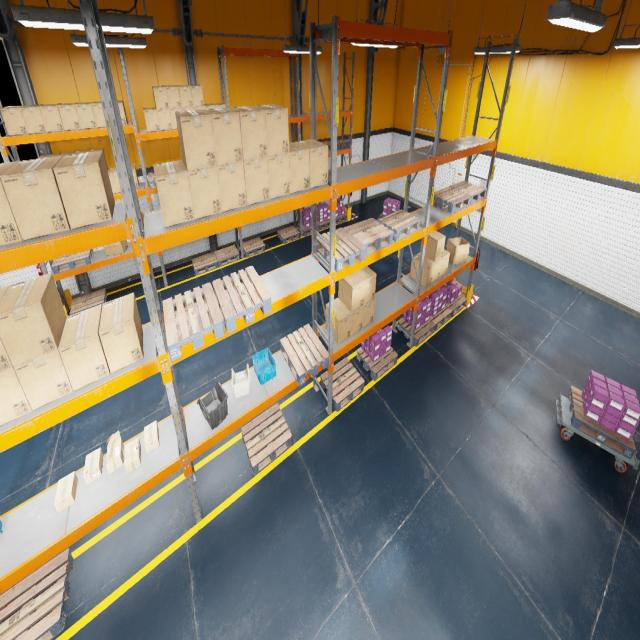box: (0, 273, 66, 366), (0, 156, 70, 240), (13, 321, 73, 410), (53, 150, 115, 230), (58, 304, 110, 391), (99, 293, 143, 373), (153, 160, 195, 228), (175, 110, 217, 170), (204, 108, 243, 166), (230, 106, 267, 160), (0, 367, 32, 426), (253, 104, 289, 156), (0, 161, 22, 245), (188, 166, 222, 219), (296, 139, 328, 188), (217, 161, 247, 212), (243, 157, 270, 205), (326, 298, 351, 344), (0, 285, 13, 372), (338, 271, 365, 312), (289, 142, 310, 193), (338, 297, 364, 336), (268, 153, 290, 199), (54, 471, 78, 513), (410, 252, 434, 287), (105, 430, 124, 474), (420, 230, 446, 262), (0, 106, 28, 135), (356, 266, 376, 305), (20, 105, 46, 134), (83, 448, 103, 484), (39, 104, 64, 132), (446, 237, 470, 264), (58, 102, 80, 130), (75, 102, 97, 129), (125, 438, 141, 473), (144, 420, 159, 453), (88, 148, 108, 170), (143, 107, 160, 132), (426, 256, 442, 282), (152, 86, 169, 109), (92, 101, 106, 128), (362, 299, 375, 328), (103, 240, 128, 255), (165, 85, 181, 108), (177, 86, 193, 108), (108, 167, 121, 193), (157, 108, 172, 130), (189, 85, 204, 106), (440, 249, 450, 277), (169, 108, 182, 128), (118, 101, 128, 125), (131, 164, 139, 189), (37, 154, 57, 158), (55, 152, 73, 156), (213, 103, 226, 108), (72, 150, 88, 154), (204, 104, 216, 108), (193, 106, 204, 110), (182, 107, 193, 110)
pallets: (0, 548, 73, 639), (162, 282, 225, 362), (568, 386, 636, 458), (212, 266, 272, 333), (241, 403, 292, 476), (280, 324, 329, 386), (320, 357, 364, 412), (316, 228, 366, 272), (344, 217, 393, 255), (357, 346, 398, 381), (379, 209, 420, 241), (397, 318, 435, 346), (51, 249, 93, 274), (69, 288, 107, 315), (432, 186, 470, 212), (448, 181, 487, 204), (192, 252, 218, 275), (214, 244, 240, 266), (429, 306, 452, 330), (445, 295, 467, 317), (243, 237, 265, 257), (277, 226, 300, 243), (297, 223, 319, 236), (328, 139, 350, 149), (317, 219, 330, 230), (148, 172, 156, 189), (336, 214, 347, 224), (321, 141, 330, 150), (379, 212, 385, 219)
